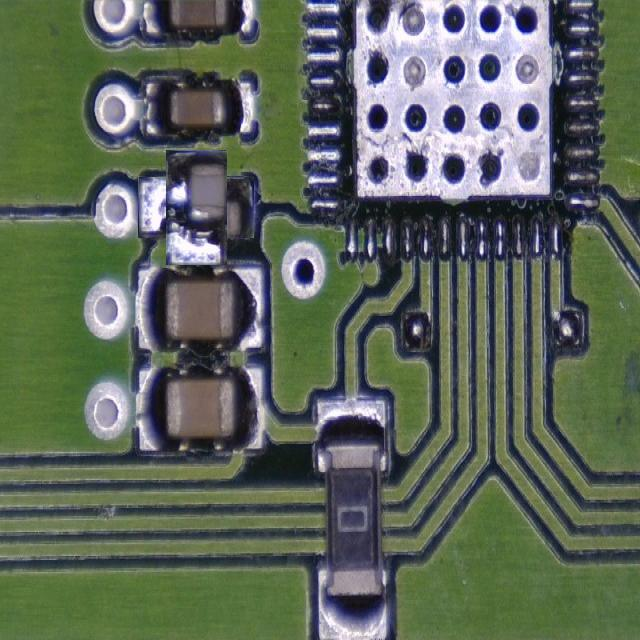Incorrect_installation: (166, 150, 227, 265)
Short_circuit: (166, 151, 226, 264)
